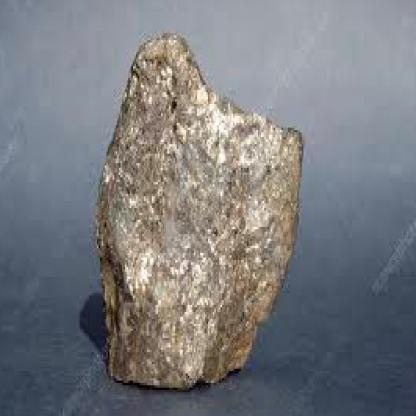Metamorphic_Quartize: (83, 21, 305, 407)
